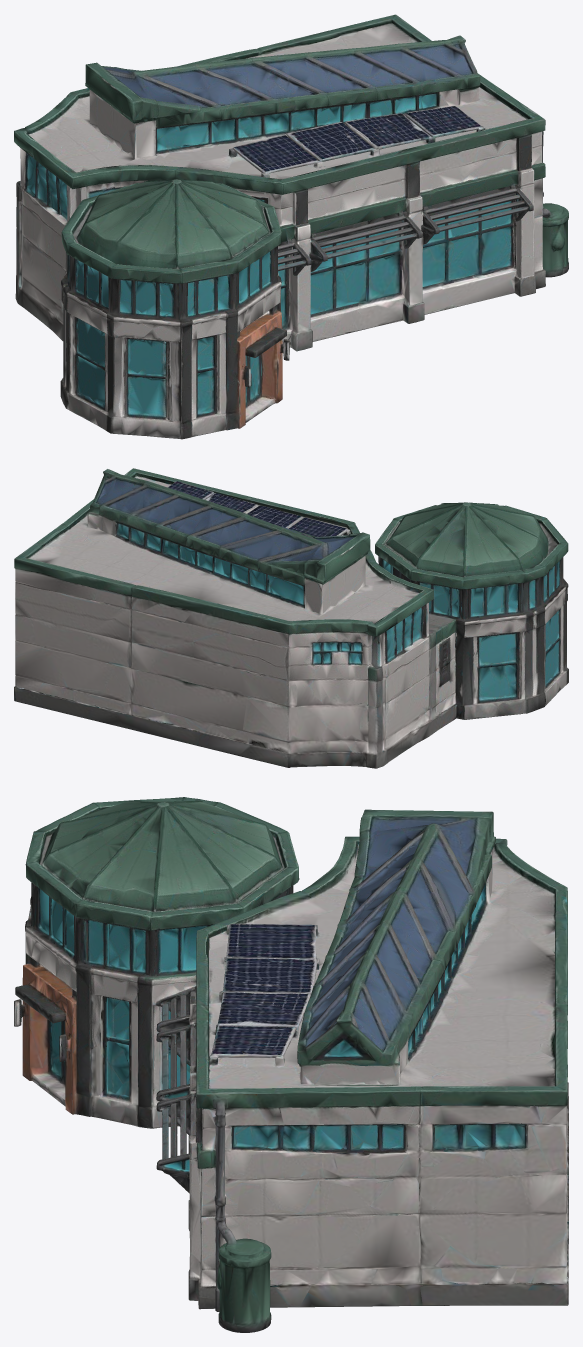
File: eco-pavilion.glb
3 renders of one model, top to bottom at view 1: azimuth 30°, elevation 25°; view 2: azimuth 150°, elevation 25°; view 3: azimuth 270°, elevation 25°, orthographic. The views are drawn at different scales.
Bounding box in the file's own units: 1.9 × 0.7834 × 1.37.
Materials: 1 (1 with a texture image).
